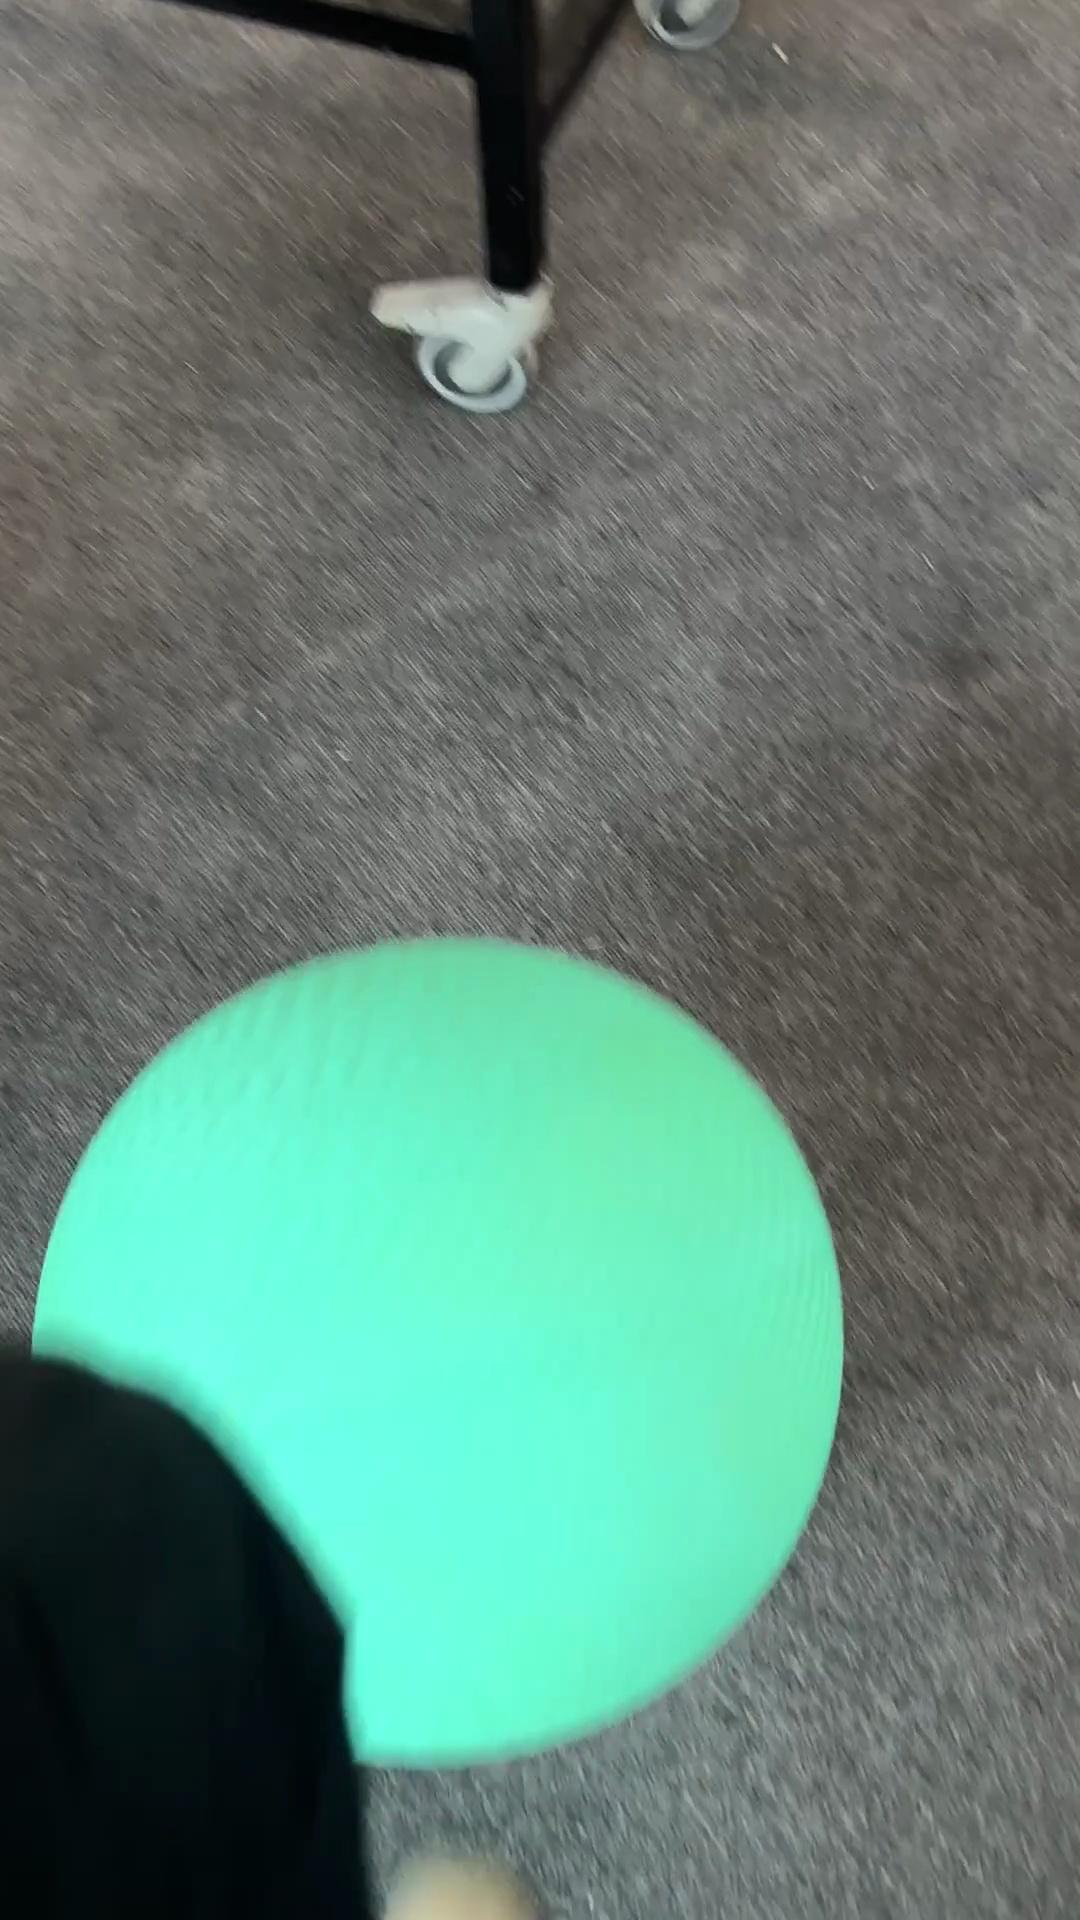ALGAE: (26, 931, 847, 1771)
